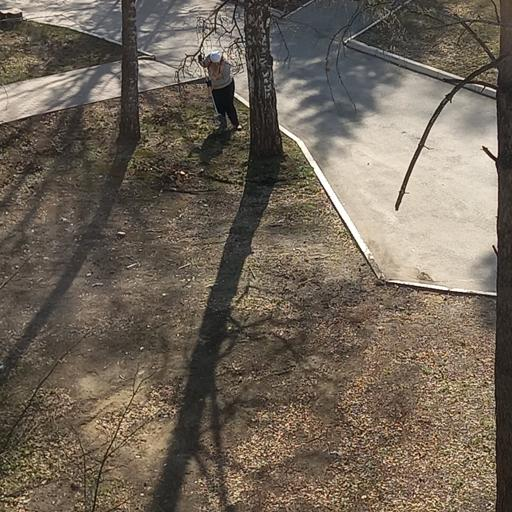Humans: (191, 42, 243, 131)
